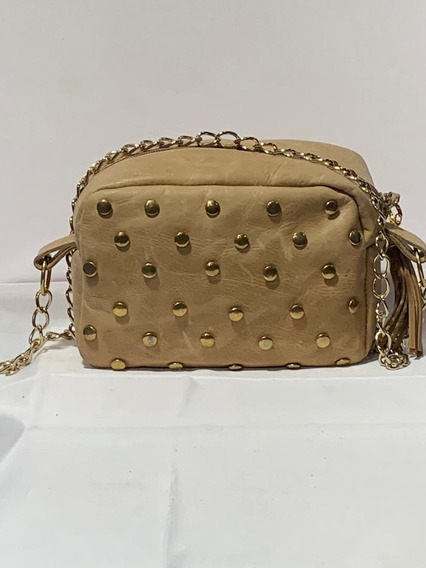cartera: (23, 130, 426, 375)
